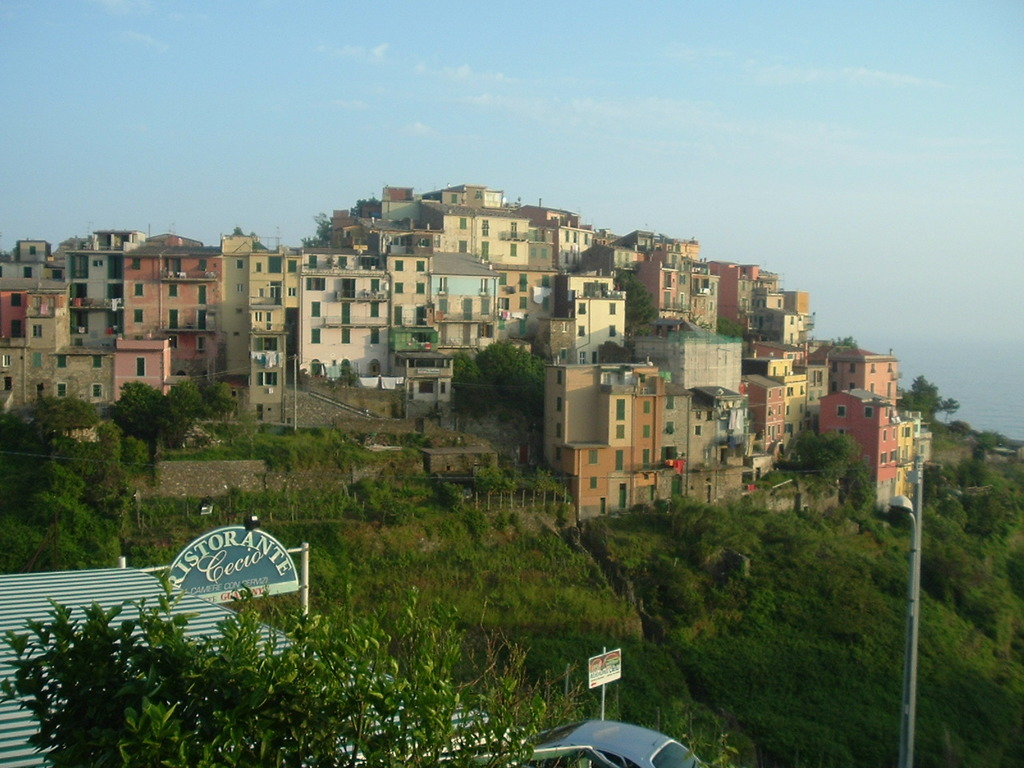Tree: (9, 383, 148, 561), (99, 382, 188, 445), (469, 336, 537, 402), (601, 266, 663, 338), (904, 365, 964, 432), (793, 422, 860, 466), (192, 373, 243, 417), (169, 374, 216, 418), (851, 450, 877, 522)
